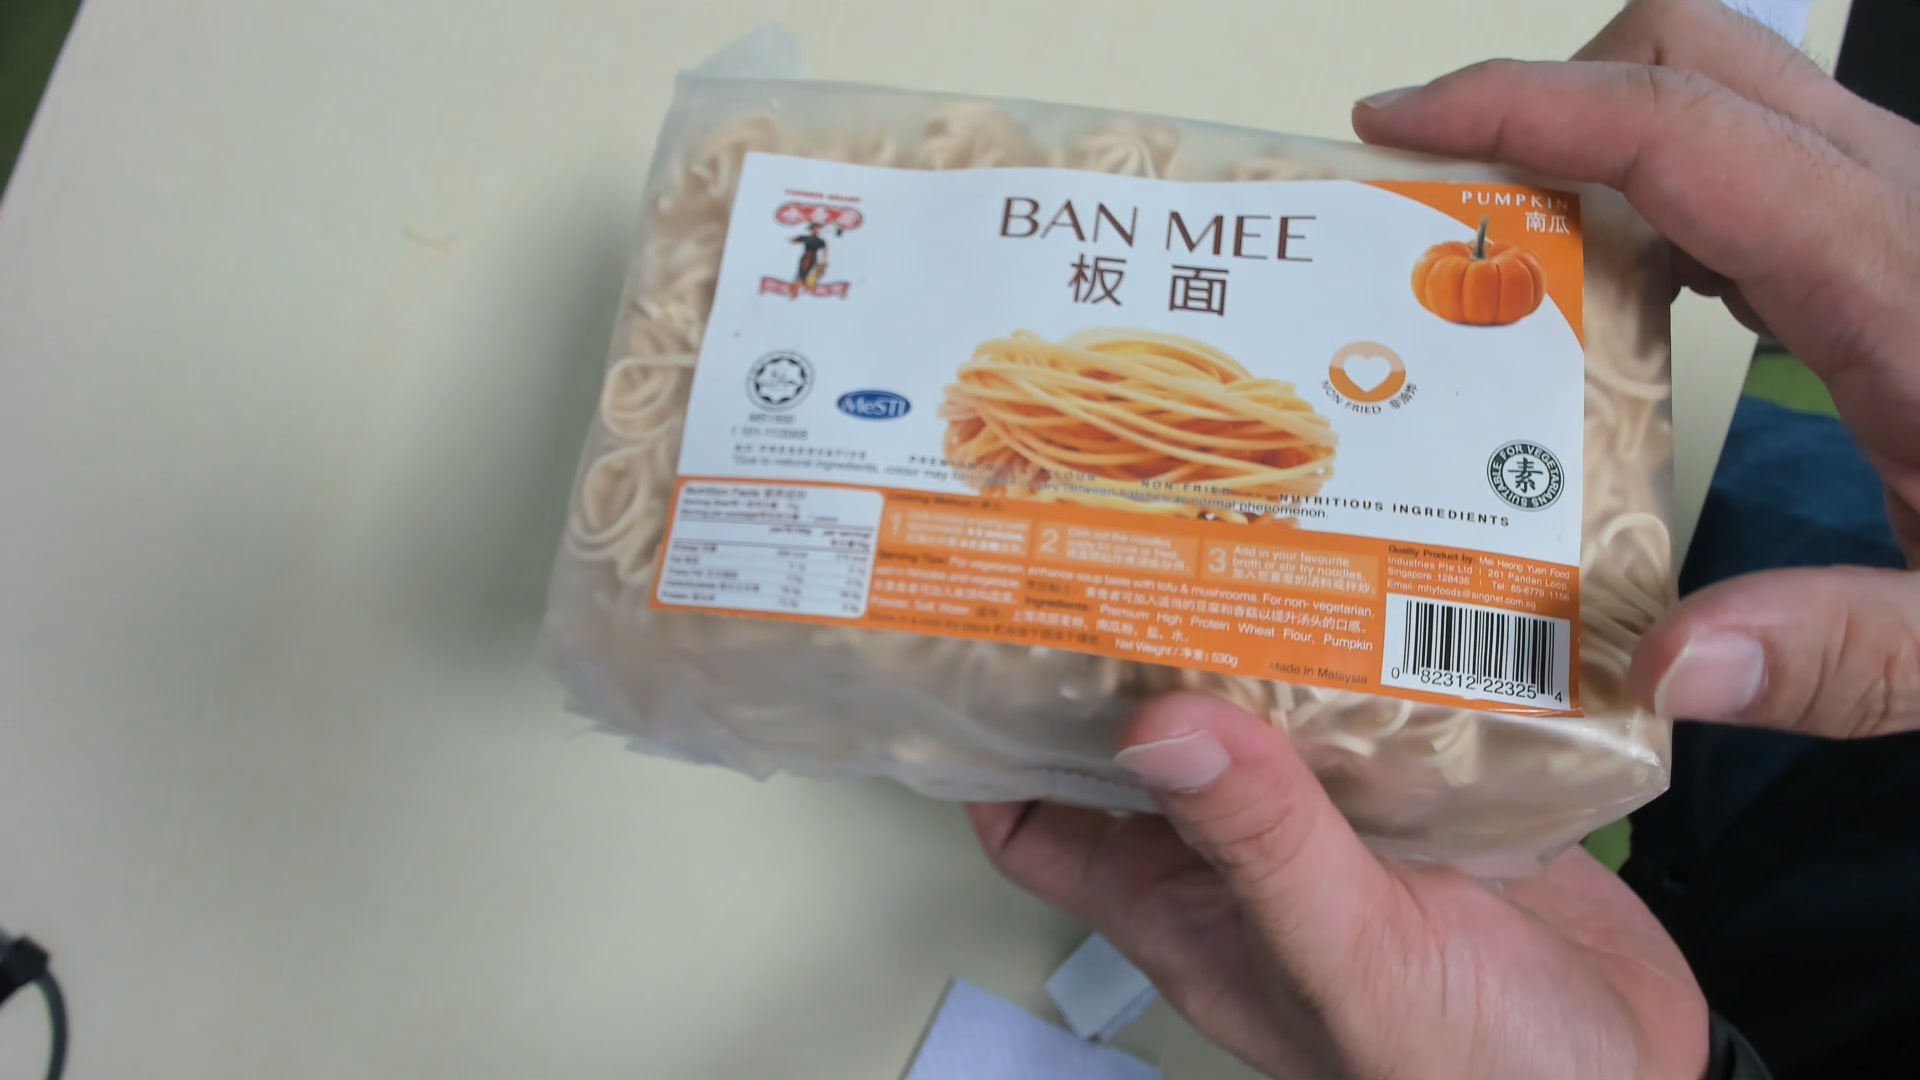OtherNoodles_500-599g_Halal_NonHealthy: (549, 69, 1680, 895)
